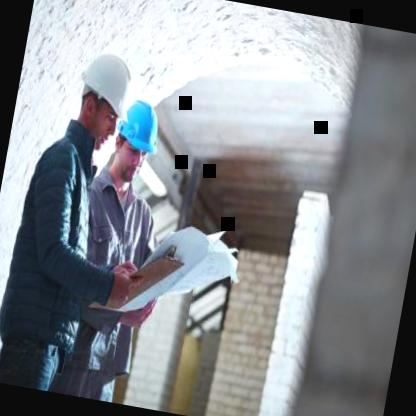helmet: (62, 39, 137, 149), (104, 91, 164, 189)
